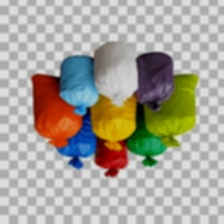plastic_bag: (142, 71, 202, 147), (28, 72, 85, 147), (124, 101, 174, 170), (87, 90, 142, 152), (91, 39, 139, 108), (51, 106, 99, 171), (132, 48, 177, 115), (57, 51, 102, 118), (91, 133, 133, 180)
